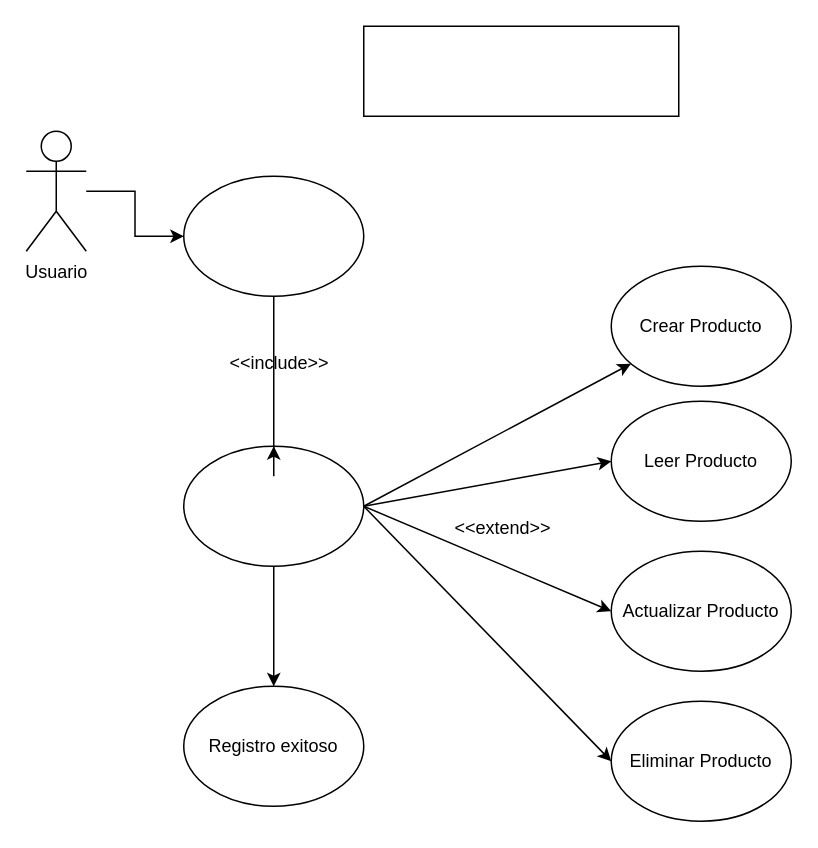
Image size: 818x848. Some labels were removed from this diagram. Each missing label, with the centre of its shape:
Realizar Mantenimiento: the point at 273,235
Sistema de Inventario: the point at 520,70
Validar Datos: the point at 273,505
